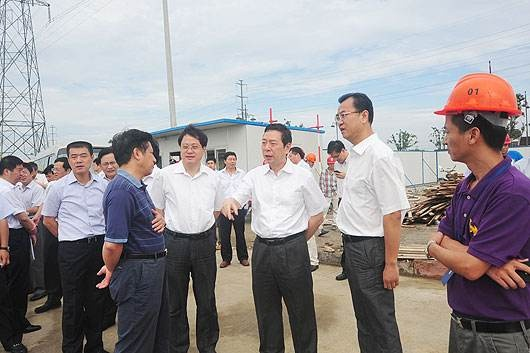none: (331, 90, 377, 142), (114, 126, 156, 178), (259, 120, 292, 166), (176, 125, 205, 166), (64, 139, 93, 176), (2, 151, 24, 189), (97, 147, 119, 178), (53, 155, 69, 181), (286, 144, 305, 165), (223, 149, 238, 169)
yellow: (437, 68, 515, 172)
